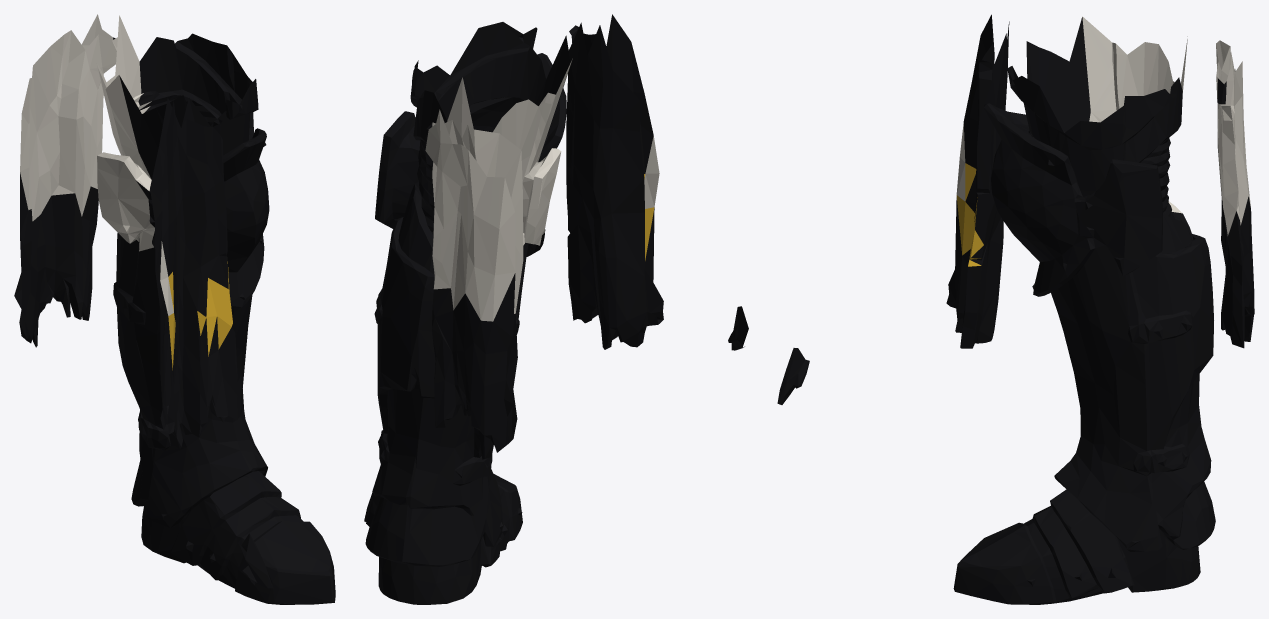
Rendered from spacemarine_leg_l.obj.
3 renders of one model, left to right at view 1: azimuth 30°, elevation 25°; view 2: azimuth 150°, elevation 25°; view 3: azimuth 270°, elevation 25°, orthographic. The views are drawn at different scales.
Parts seen in each view (by area): view 1: Left_Leg; view 2: Left_Leg; view 3: Left_Leg.
Boxes of the visible parts, x1,y1,x2,y2 form: Left_Leg: (14, 14, 335, 604); Left_Leg: (364, 14, 748, 604); Left_Leg: (777, 14, 1254, 604).
Size of the model in its own units: 0.3514 by 0.8663 by 0.7325.
